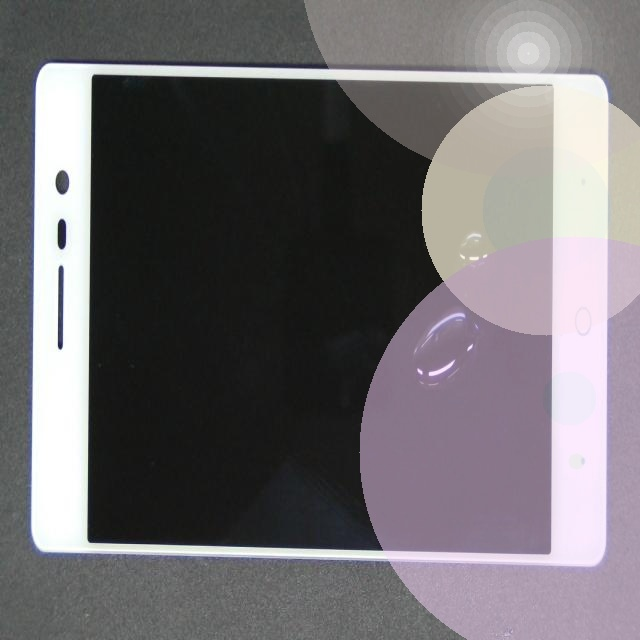oil: (259, 158, 640, 470), (243, 85, 640, 342)
